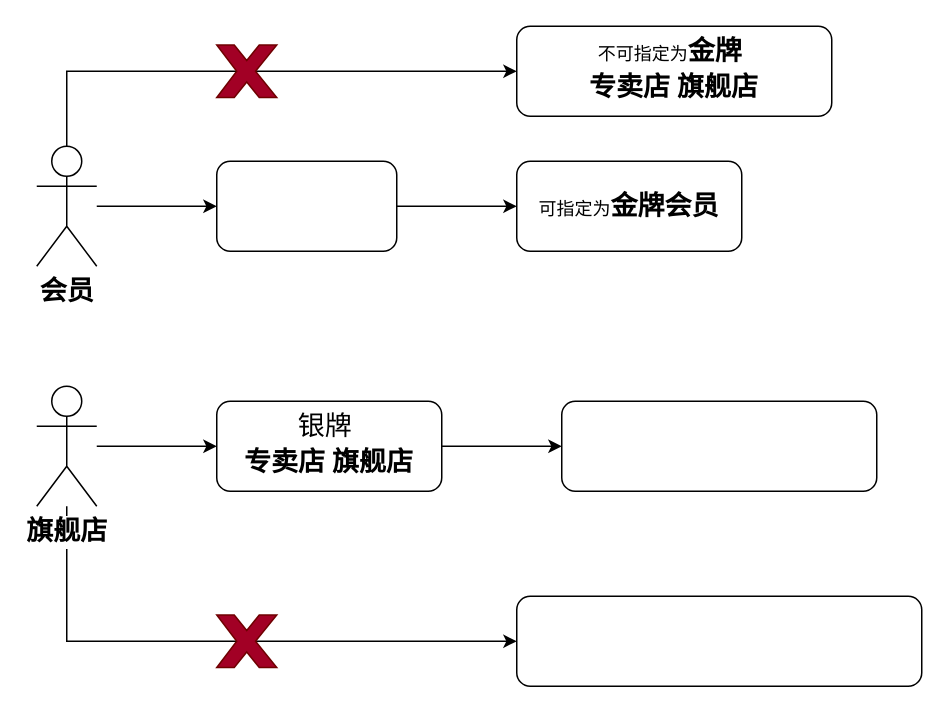
This 948x713 diagram has some shape labels left out. The centre of each missing label's shape, as x and y in pixels:
"不可指定为 金牌会员/ 银牌 会员" belongs at point (718, 640).
"可指定为 金牌 专卖店 旗舰店" belongs at point (718, 445).
"银牌 会员" belongs at point (306, 205).
